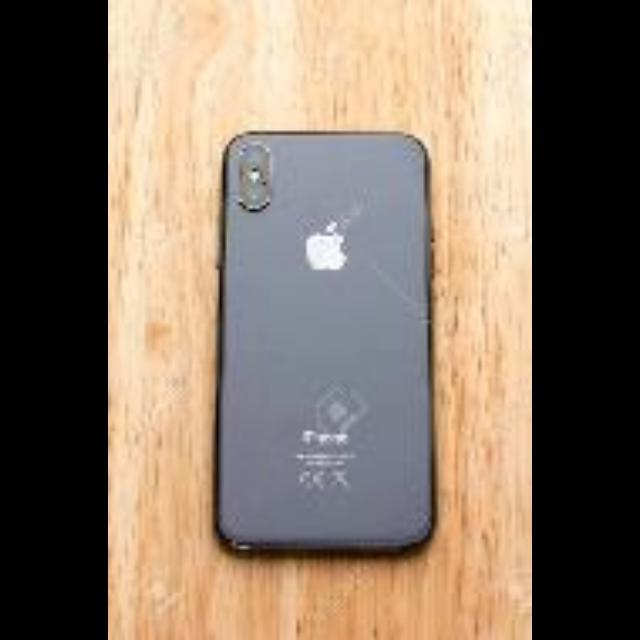Phone: (216, 132, 438, 556)
